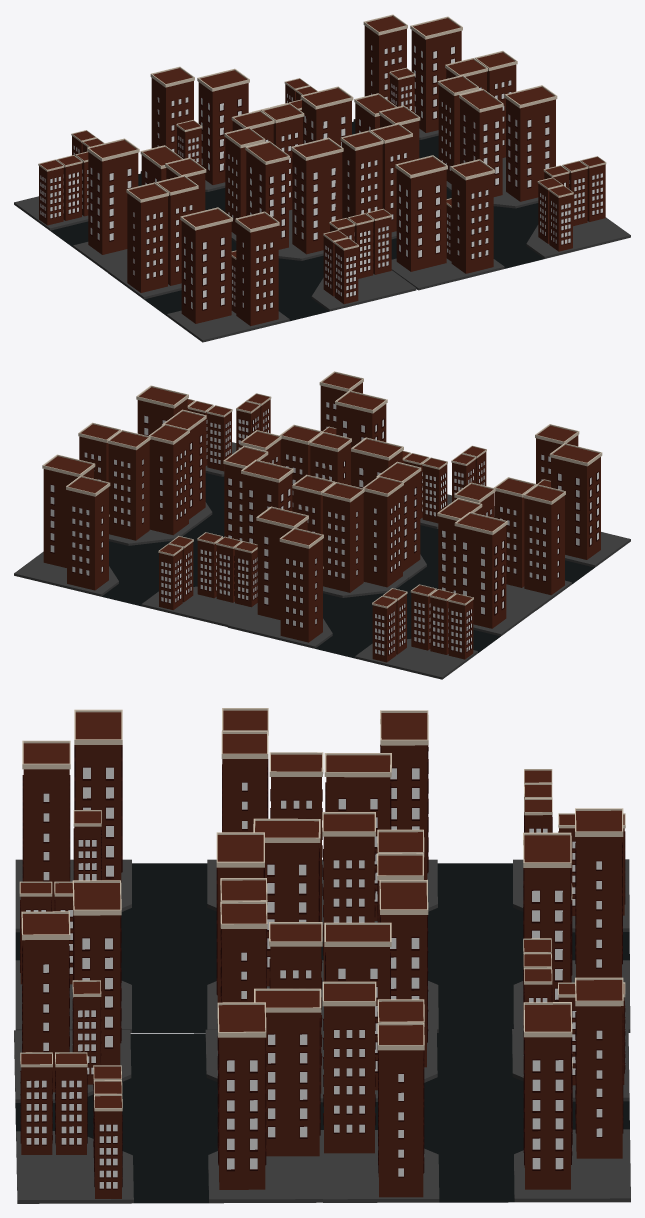
The model's file is game_city2.fbx.
3 renders of one model, top to bottom at view 1: azimuth 30°, elevation 25°; view 2: azimuth 150°, elevation 25°; view 3: azimuth 270°, elevation 25°, orthographic. The views are drawn at different scales.
Parts seen in each view (by area): view 1: Plane.084, Plane.087, Plane.085, Plane.086; view 2: Plane.085, Plane.086, Plane.084, Plane.087; view 3: Plane.087, Plane.086, Plane.084, Plane.085.
Boxes of the visible parts, x1,y1,x2,y2 form: Plane.084: (108,137,416,342); Plane.087: (340,85,630,290); Plane.085: (14,66,304,272); Plane.086: (252,14,517,190); Plane.085: (227,474,535,679); Plane.086: (14,422,293,626); Plane.084: (351,424,630,610); Plane.087: (136,371,387,533); Plane.087: (14,878,325,1203); Plane.086: (321,879,630,1202); Plane.084: (15,708,323,1032); Plane.085: (321,710,630,1032).
Size of the model in its own units: 3835 by 849 by 2935.
